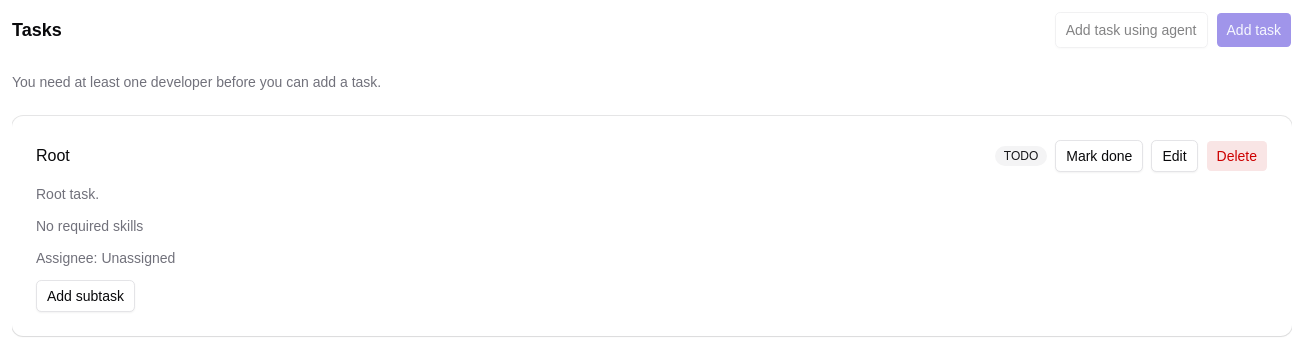
Scenario: TasksPage › marks a task done and reflects the successful status change
Expected: the text "Root" is shown, [36,144,70,168]
Click the button "Mark done" at (1099, 156), box [1055,140,1144,172]
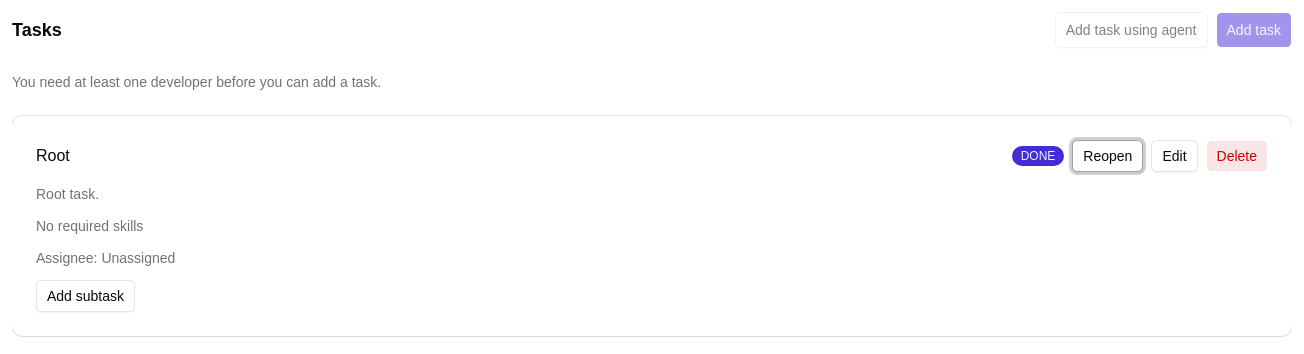
Now the button "Reopen" is shown, box [1072,140,1143,172]
